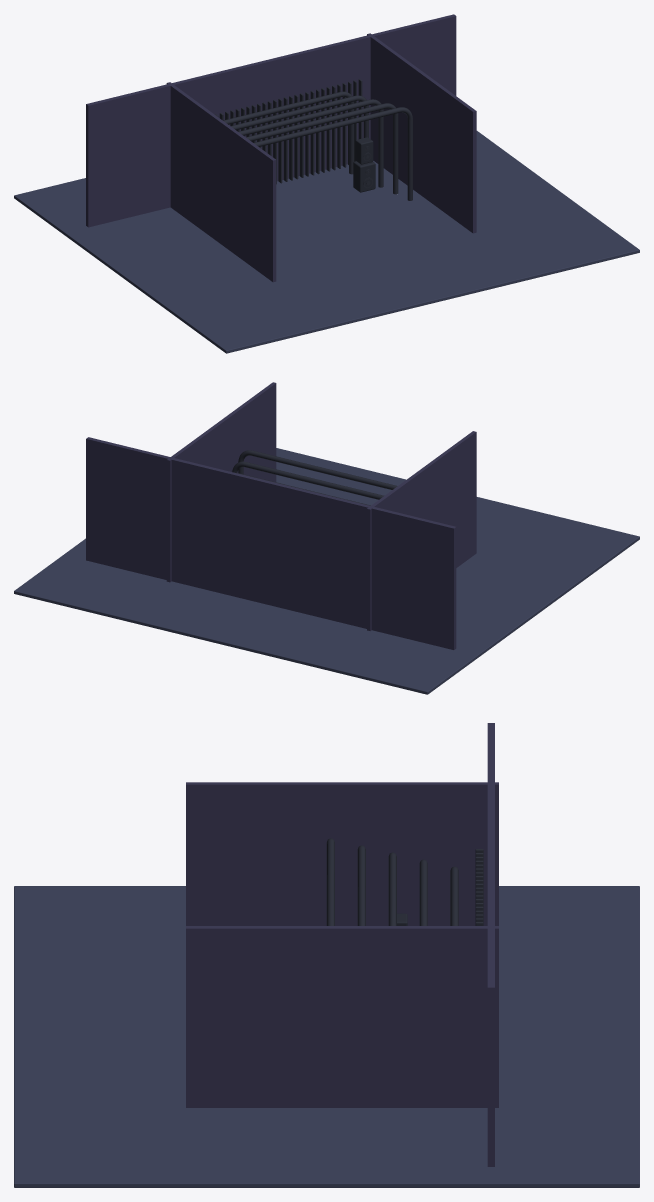
File: VenueNightclub.fbx
The picture shows the model from 3 angles, top to bottom: view 1: azimuth 30°, elevation 25°; view 2: azimuth 150°, elevation 25°; view 3: azimuth 270°, elevation 25°; orthographic projection. The views are drawn at different scales.
Visible parts, largest first — view 1: VenueNightclub; view 2: VenueNightclub; view 3: VenueNightclub.
Boxes of the visible parts, left/top/right/bottom form: VenueNightclub: left=14, top=14, right=639, bottom=353; VenueNightclub: left=14, top=382, right=639, bottom=694; VenueNightclub: left=14, top=723, right=639, bottom=1187.
Bounding box in the file's own units: 18 × 16 × 5.19.
